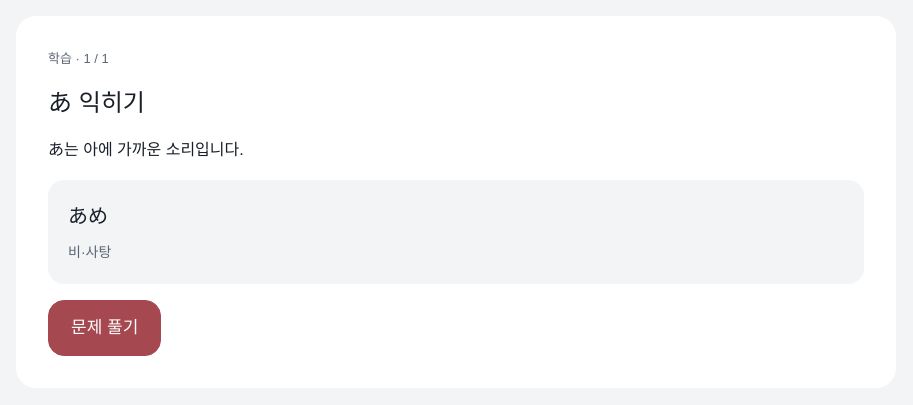
Test case: practice flow › teaches a new item before asking and skips the guide on review
Later steps or results of the test are not shown.
Check: the heading "あ 익히기" is shown, box [48,89,145,116]
What coordinates should you click on to do the following:
click the button "문제 풀기"
I would click on:
 (105, 328)
Its box is [48,300,161,356].
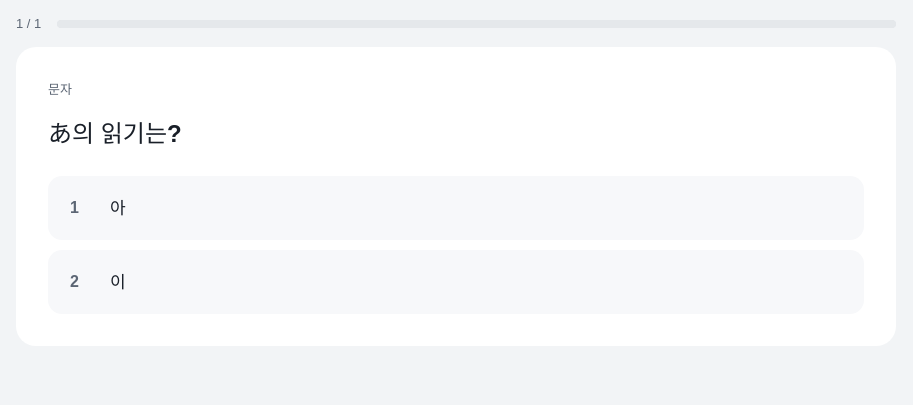
Check: the element named "답 선택" is shown, box [48,176,864,314]
